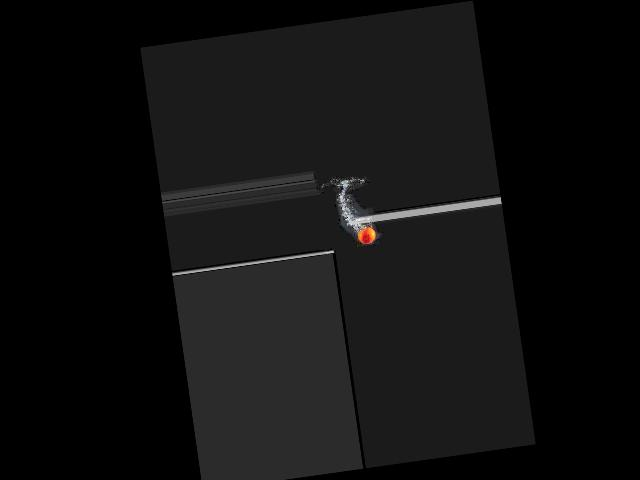tomato: (357, 226, 376, 244)
